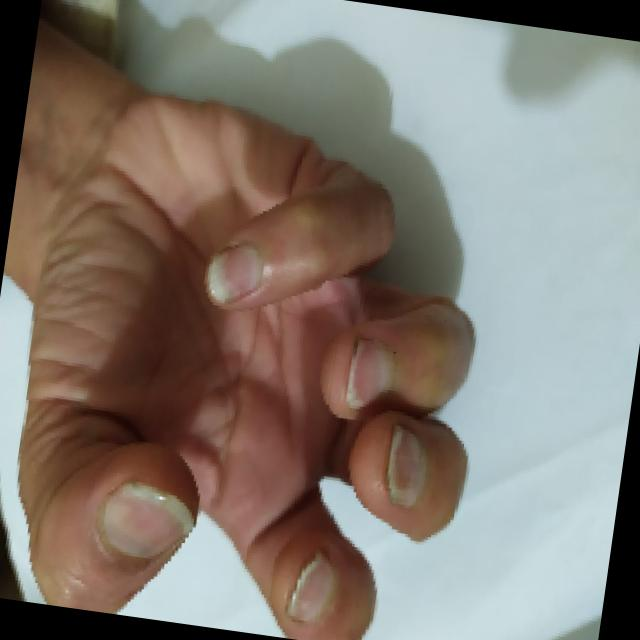Nail: (99, 482, 194, 558), (345, 339, 395, 409), (288, 552, 336, 623), (210, 246, 265, 305), (387, 426, 427, 507)
